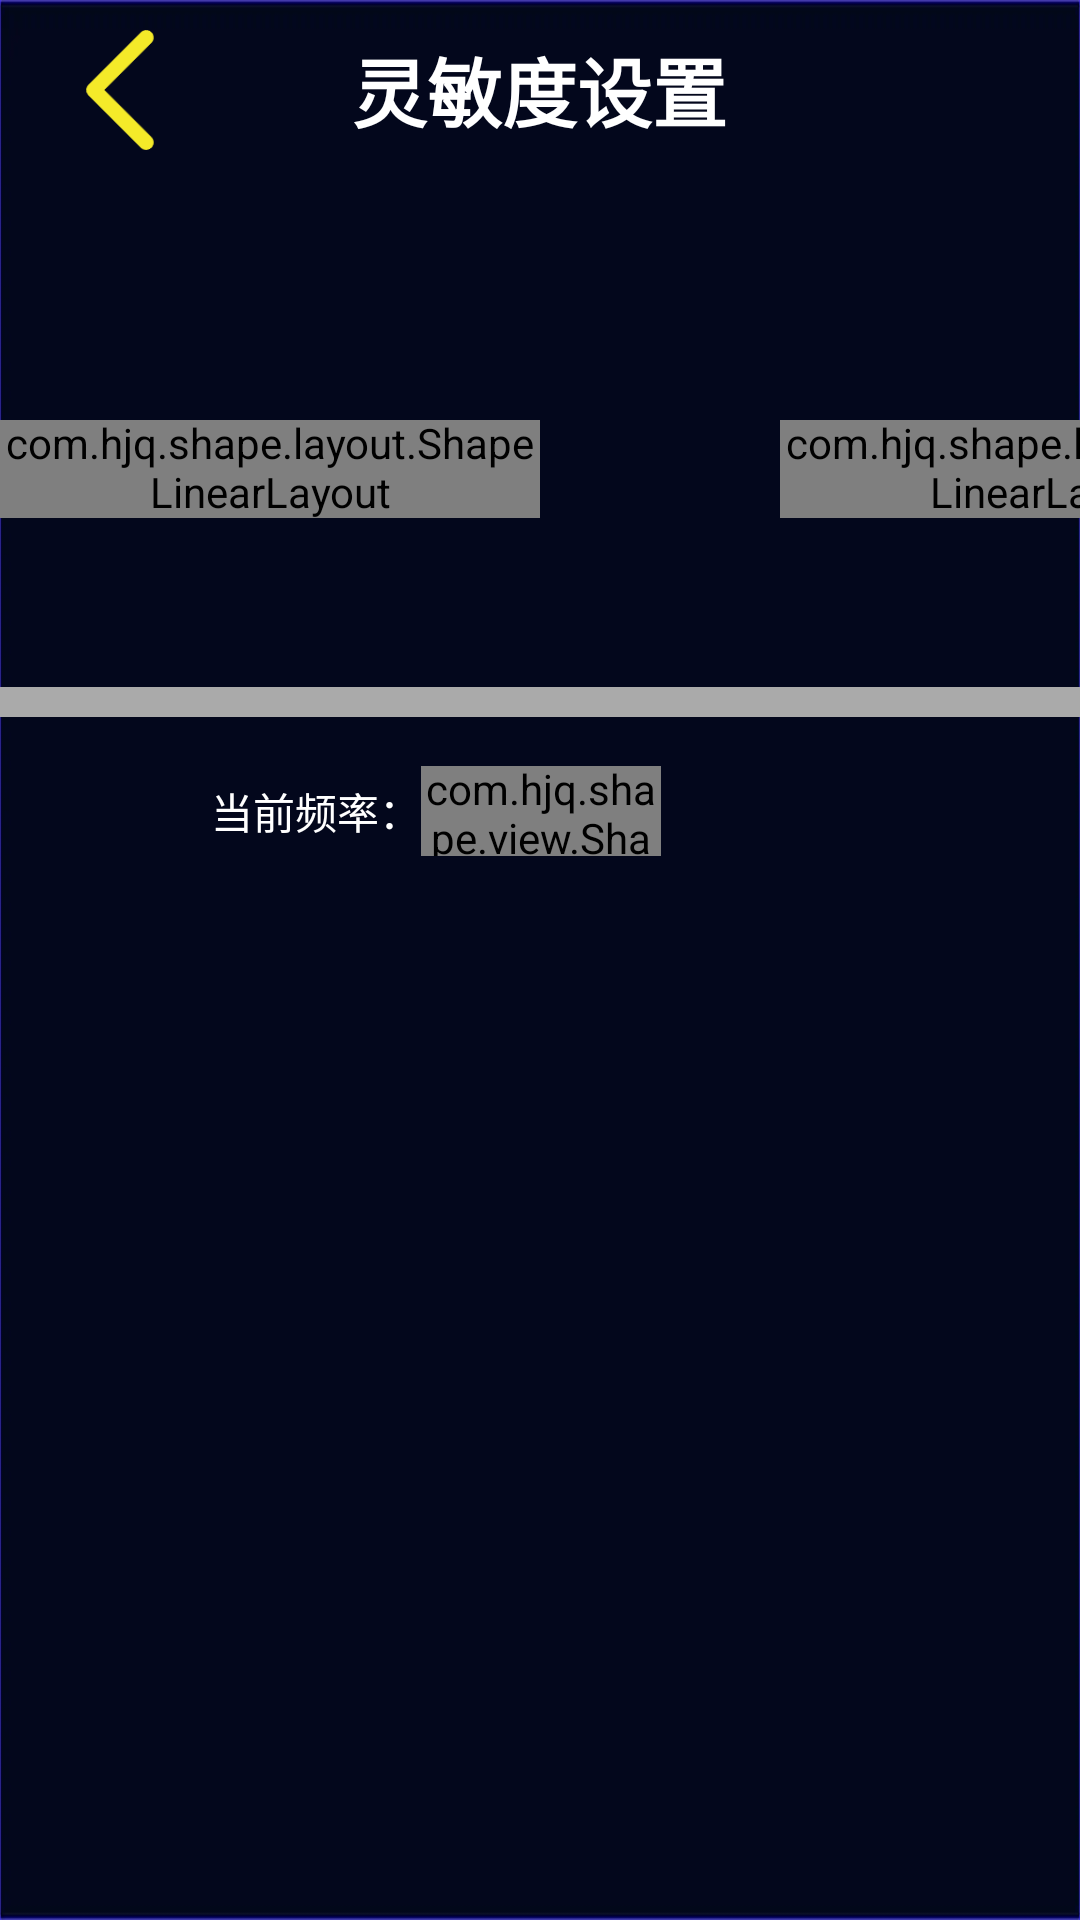

Icons on this 1080 × 1920 Android screen, each with its box as (x1, y1, x2, y2):
back: (86, 30, 154, 150)
